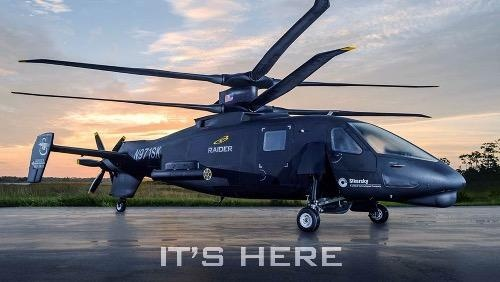airplane: (10, 1, 465, 227)
